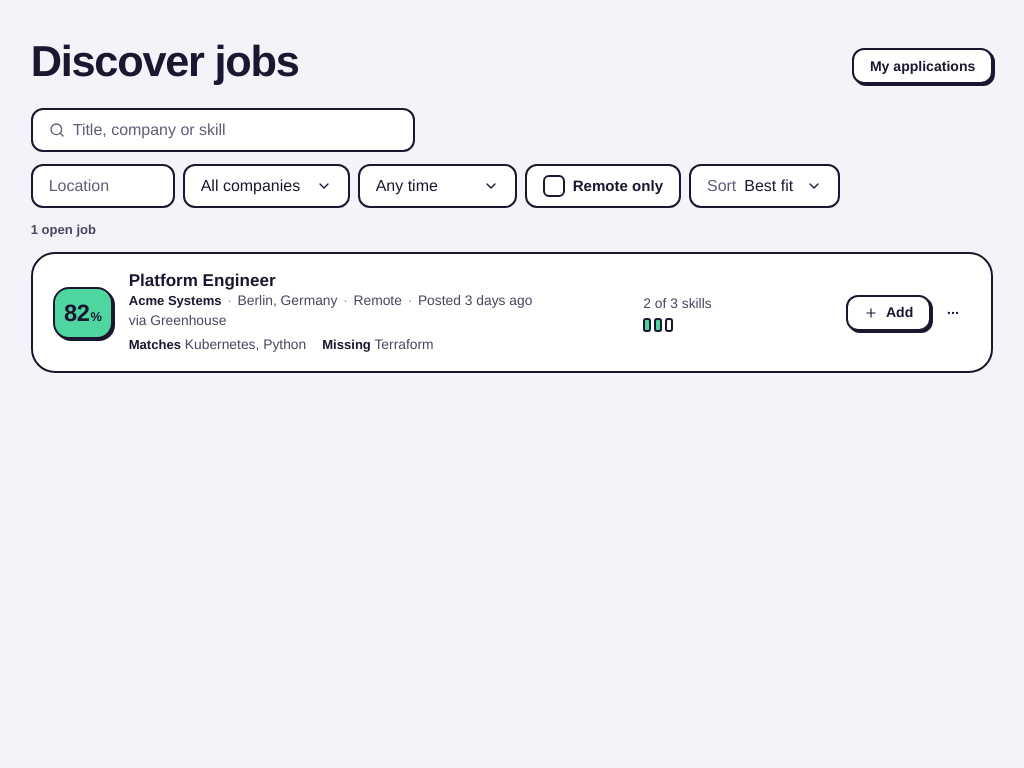
Test case: DiscoveryPage › loads the full description as plain text in the details drawer, with every action
Click the button "Platform Engineer".
click(202, 280)  # box [129,270,627,291]
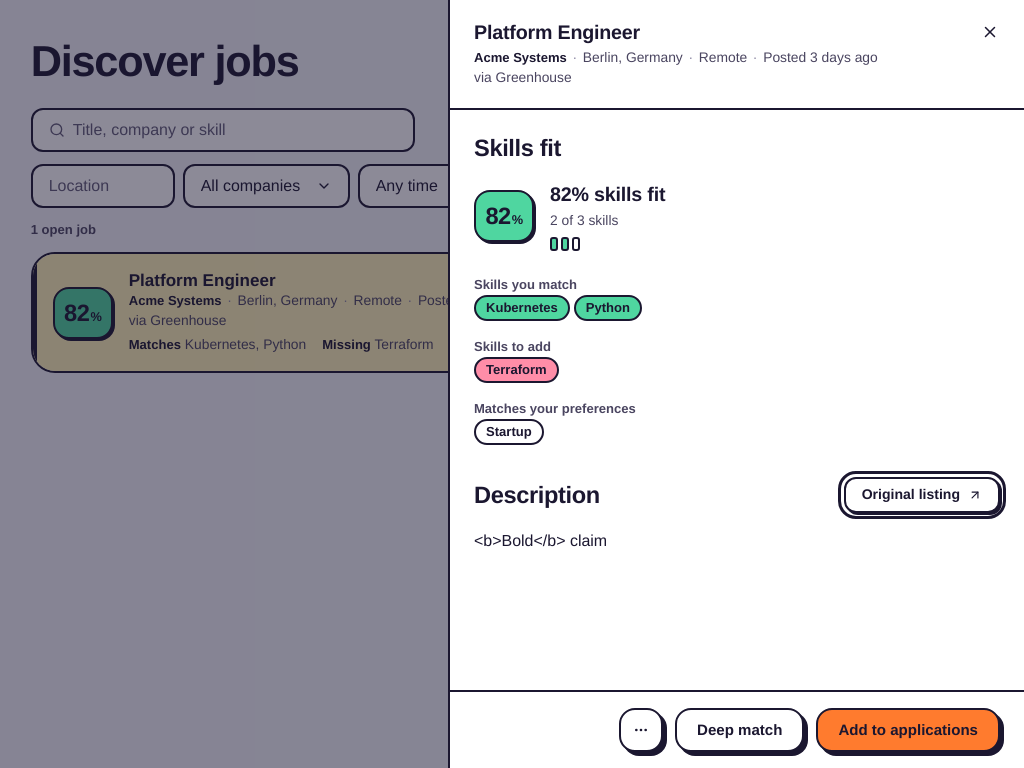
Check: the text "<b>Bold</b> claim" is shown, box [474,530,607,550]
Press Enter in the button named "More actions for Platform Engineer", box [619,708,663,752]
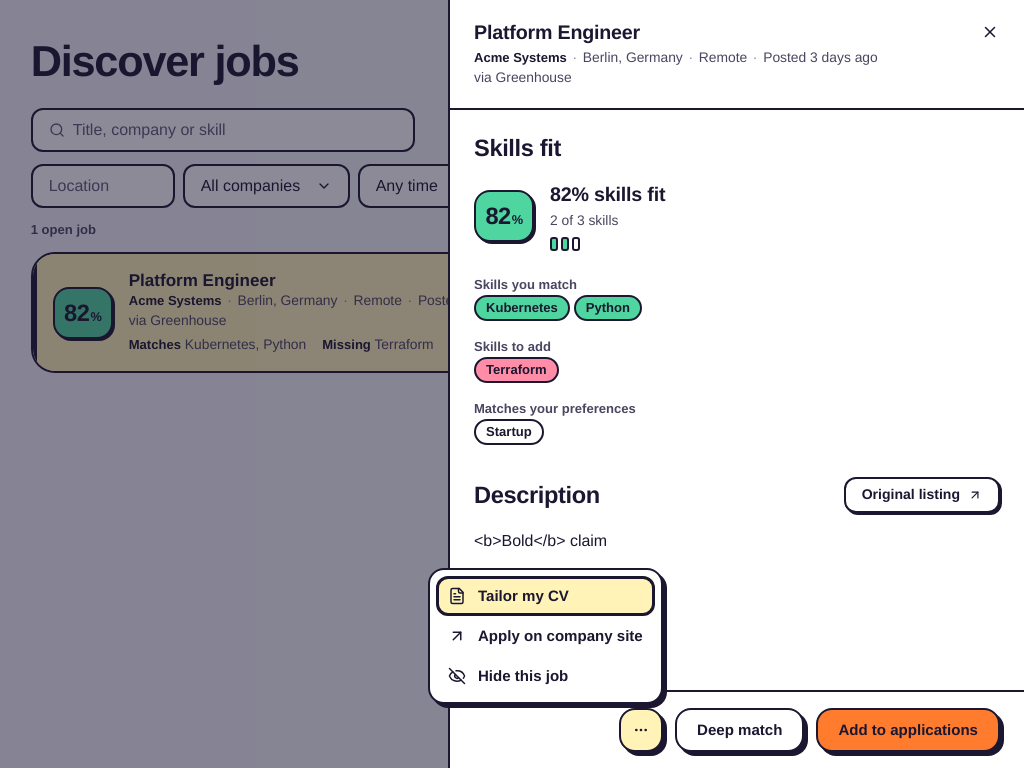
Check: the menu items read "Tailor my CV", "Apply on company site", "Hide this job", in this order, box [436,576,655,616]; [448,626,643,646]; [448,666,568,686]
